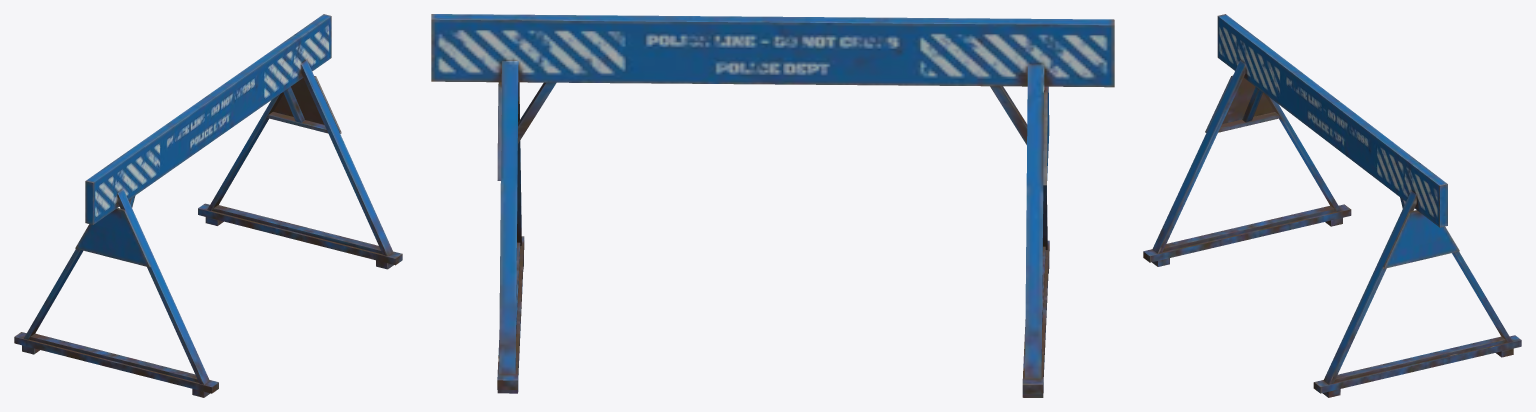
Rendered from police-barrier.lod0.glb.
The picture shows the model from 3 angles, left to right: view 1: azimuth 30°, elevation 25°; view 2: azimuth 150°, elevation 25°; view 3: azimuth 270°, elevation 25°; orthographic projection. The views are drawn at different scales.
Parts seen in each view (by area): view 1: Cube_Material.001_0; view 2: Cube_Material.001_0; view 3: Cube_Material.001_0.
Boxes of the visible parts, bbox=[...] form: Cube_Material.001_0: bbox=[14, 14, 402, 397]; Cube_Material.001_0: bbox=[431, 14, 1114, 397]; Cube_Material.001_0: bbox=[1143, 14, 1521, 397].
Bounding box in the file's own units: 1.98 × 1.05 × 1.73.
1 material, 1 textured.
